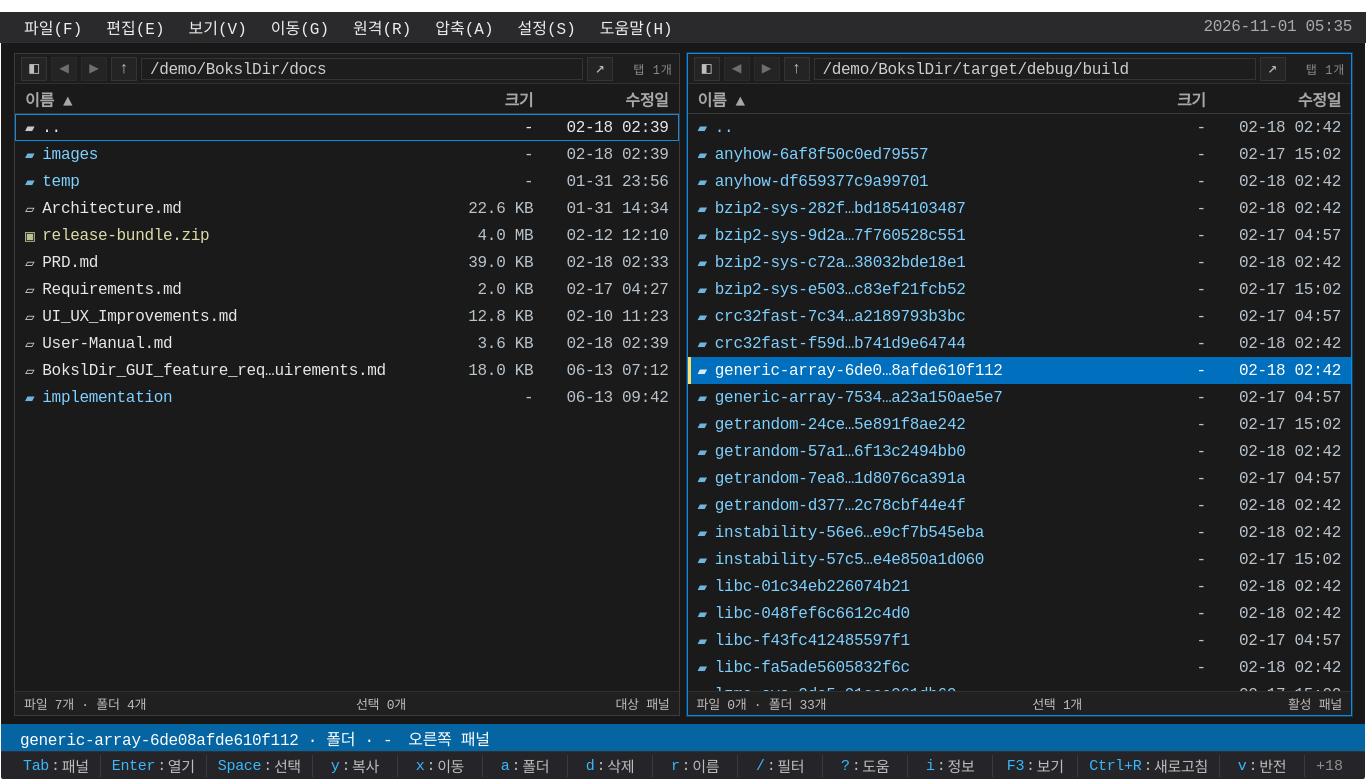
Test: CommanderShell drag › app-local pointer file dragging › hands off only when leaving the window; native cancellation never copies into a panel
Press the mouse on the row with class "file-row" that starts with "generic-array-7534": (798, 398) [688, 384, 1351, 411]
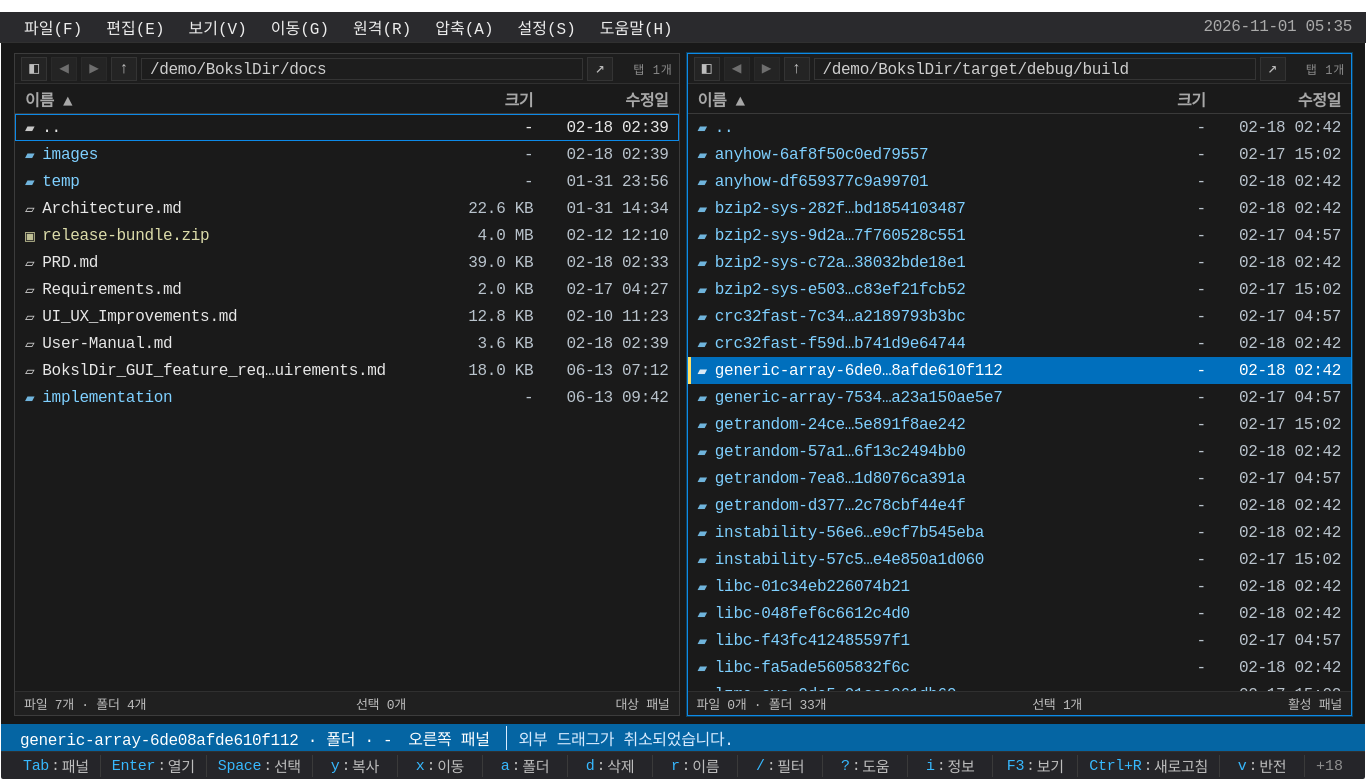
Expected: the text "외부 드래그가 취소되었습니다." is shown, [506, 726, 1346, 750]
